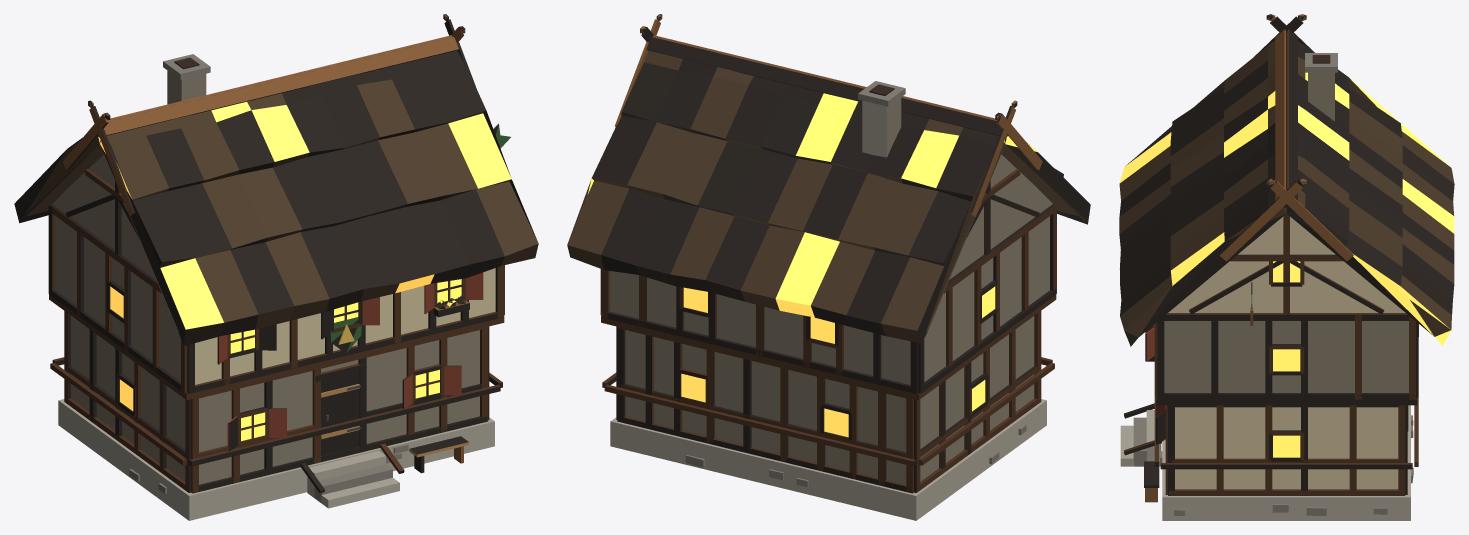
Rendered from Dorf_Schulzenhaus_Beschaedigt.fbx.
3 renders of one model, left to right at view 1: azimuth 30°, elevation 25°; view 2: azimuth 150°, elevation 25°; view 3: azimuth 270°, elevation 25°, orthographic. The views are drawn at different scales.
Visible parts, largest first — view 1: Dorf_Schulzenhaus_Beschaedigt; view 2: Dorf_Schulzenhaus_Beschaedigt; view 3: Dorf_Schulzenhaus_Beschaedigt.
Part boxes in pixels (left/top/right/bottom): Dorf_Schulzenhaus_Beschaedigt: left=14, top=14, right=538, bottom=520; Dorf_Schulzenhaus_Beschaedigt: left=567, top=14, right=1090, bottom=520; Dorf_Schulzenhaus_Beschaedigt: left=1119, top=14, right=1454, bottom=520.
Size of the model in its own units: 9.95 by 9.07 by 7.69.
